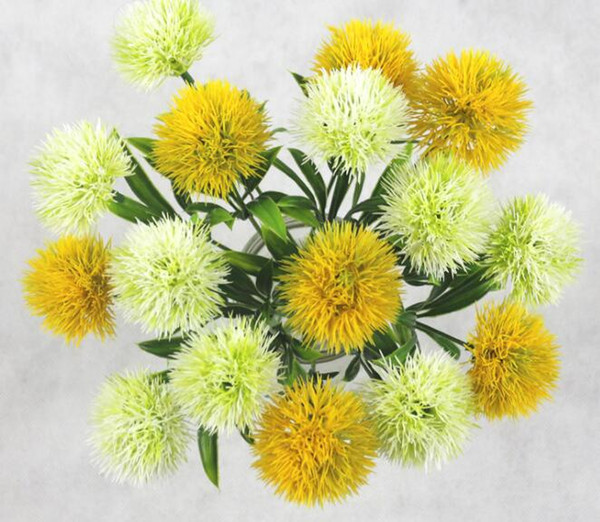dandelion: (284, 222, 396, 344), (415, 43, 534, 153), (143, 86, 263, 183), (472, 305, 561, 423), (270, 390, 365, 498)
